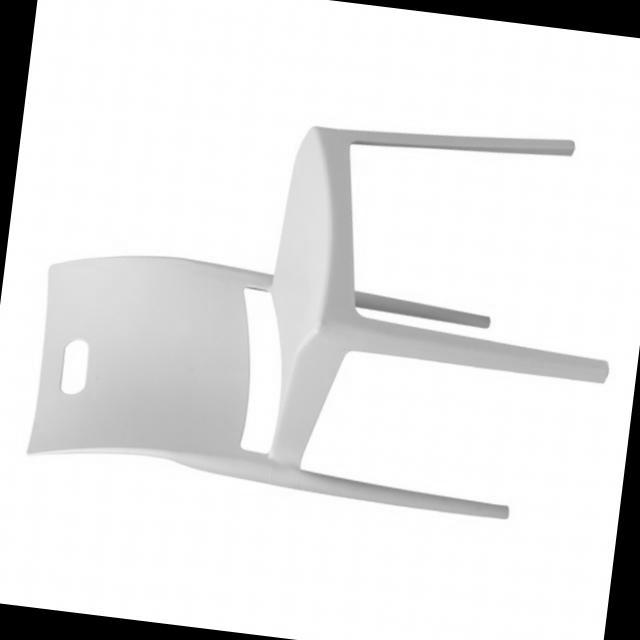chair: (18, 74, 637, 530)
